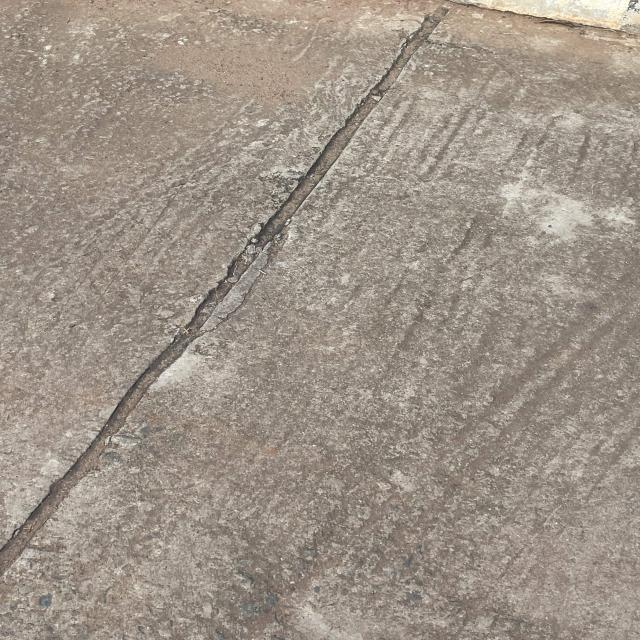D01: (49, 95, 305, 540)
